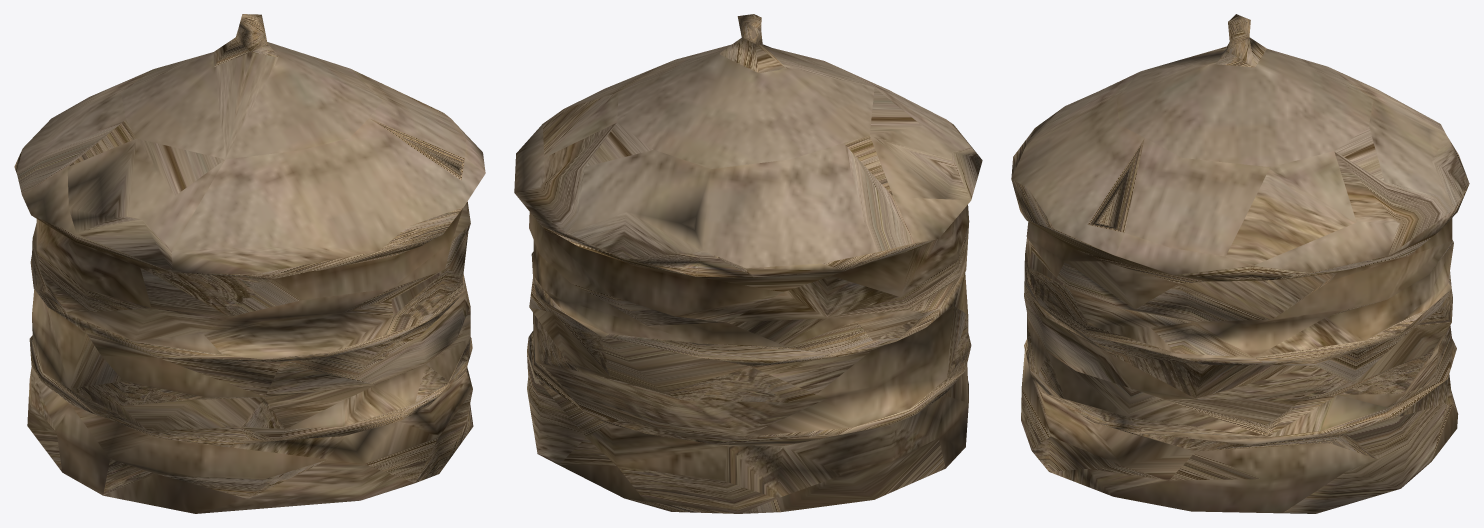
Rendered from heap_round_lod2-2.glb.
The picture shows the model from 3 angles, left to right: view 1: azimuth 30°, elevation 25°; view 2: azimuth 150°, elevation 25°; view 3: azimuth 270°, elevation 25°; orthographic projection.
Parts seen in each view (by area): view 1: node_0; view 2: node_0; view 3: node_0.
Boxes of the visible parts, bbox=[...] form: node_0: bbox=[14, 14, 485, 513]; node_0: bbox=[514, 14, 982, 513]; node_0: bbox=[1011, 14, 1469, 513].
Bounding box in the file's own units: 3.21 × 3.1 × 3.15.
Materials: 1 (1 with a texture image).
